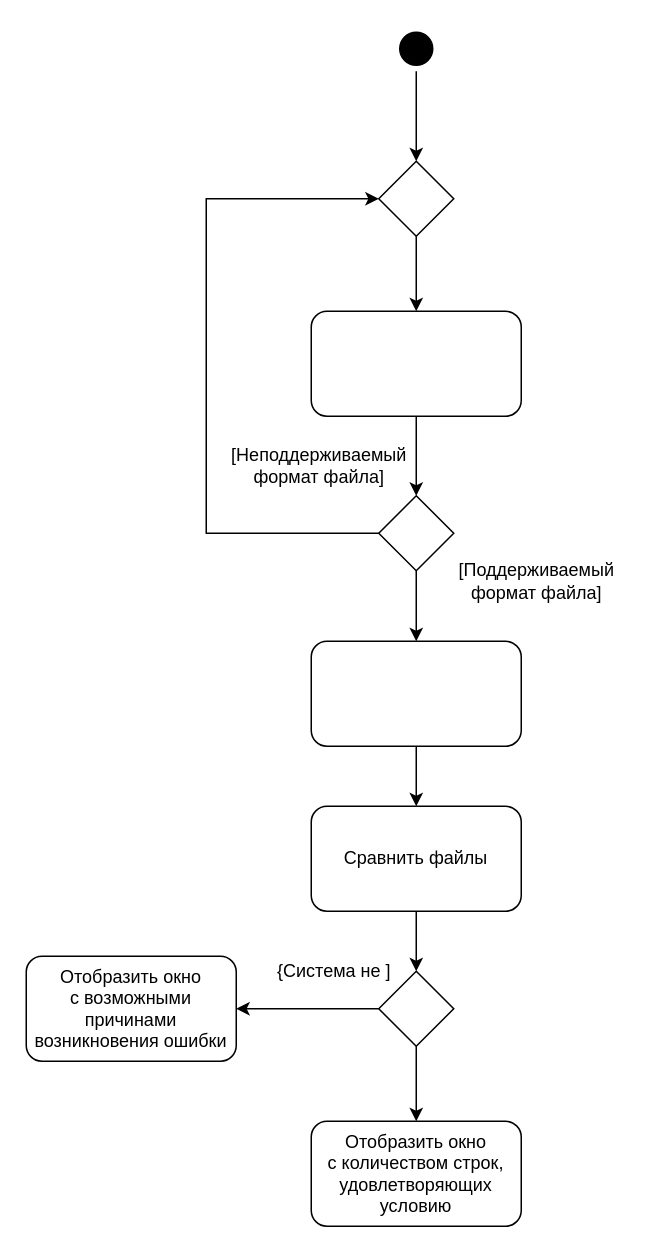
Image size: 660x1253. Some labels were removed from this diagram. The box of each missing label's shape, as (x1, y1, x2, y2) in pixels:
Загрузить файлы: (310, 310, 521, 416)
Задать условия сравнения: (310, 640, 521, 746)
